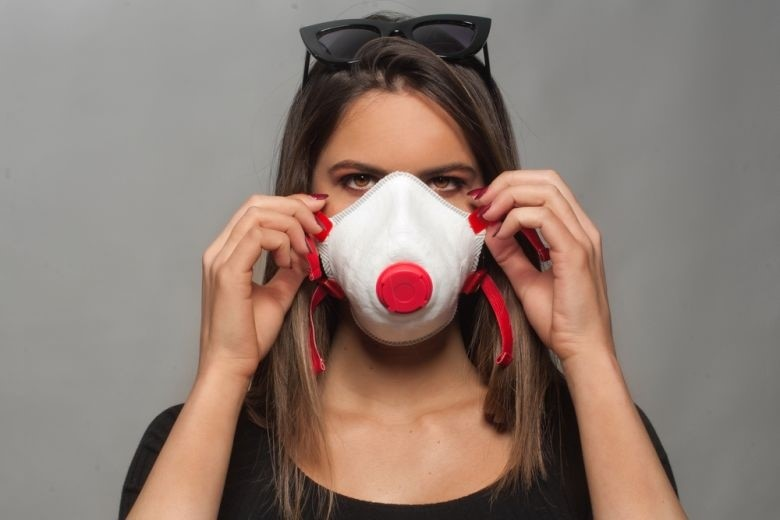face_with_mask: (284, 16, 518, 348)
